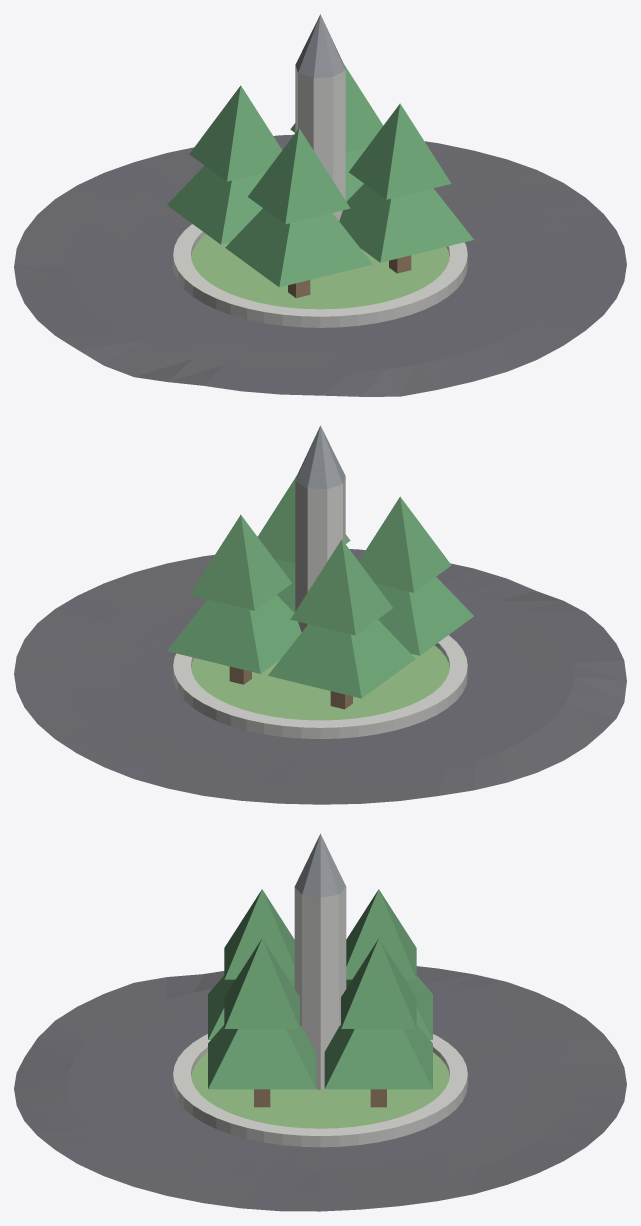
The model's file is roundabout.glb.
The picture shows the model from 3 angles, top to bottom: view 1: azimuth 30°, elevation 25°; view 2: azimuth 150°, elevation 25°; view 3: azimuth 270°, elevation 25°; orthographic projection.
Visible parts, largest first — view 1: raghave:Roundabout_Crossing; view 2: raghave:Roundabout_Crossing; view 3: raghave:Roundabout_Crossing.
Part boxes in pixels (x1=…): raghave:Roundabout_Crossing: x1=14, y1=14, x2=626, y2=396; raghave:Roundabout_Crossing: x1=14, y1=425, x2=626, y2=804; raghave:Roundabout_Crossing: x1=14, y1=833, x2=626, y2=1211.
Bounding box in the file's own units: 52 × 24.36 × 52.
